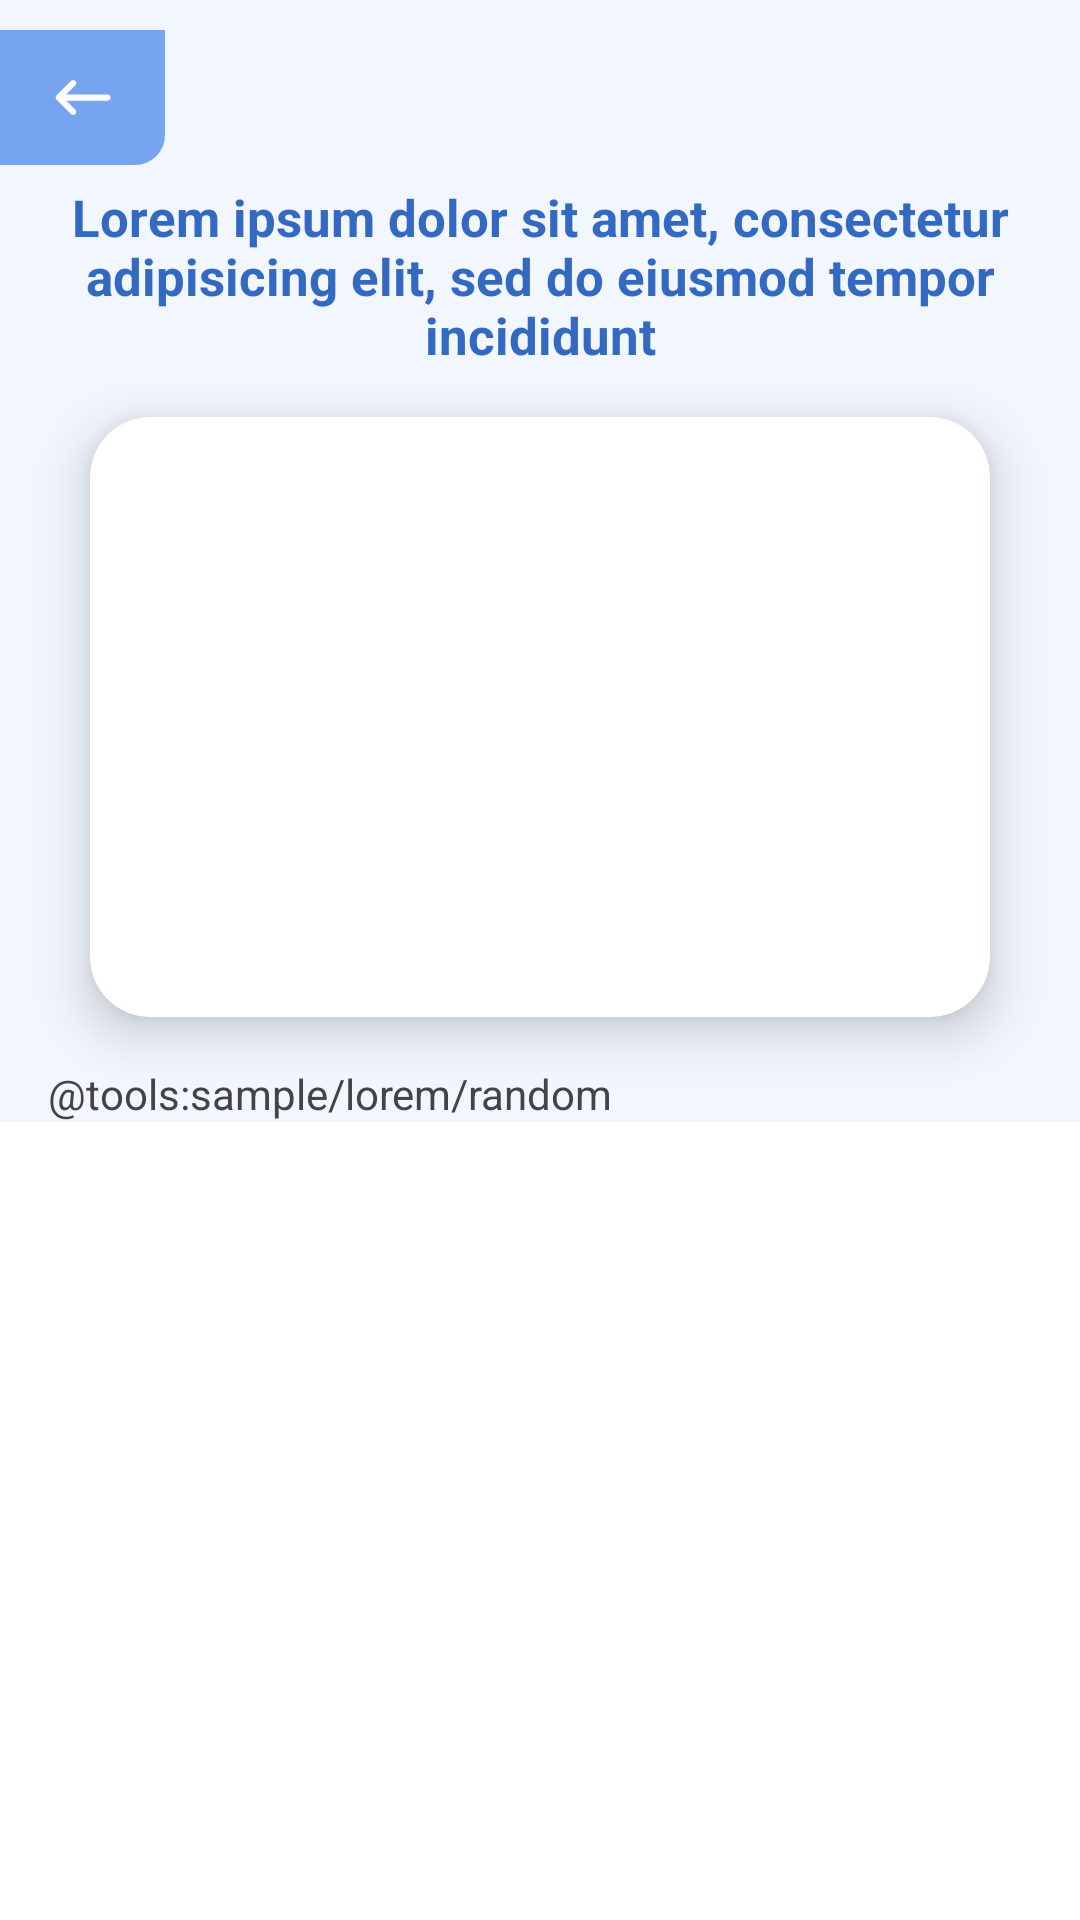

Icons on this 1080 × 1920 Android screen, each with the point to tap as [x,y]:
backspace: [82,97]
